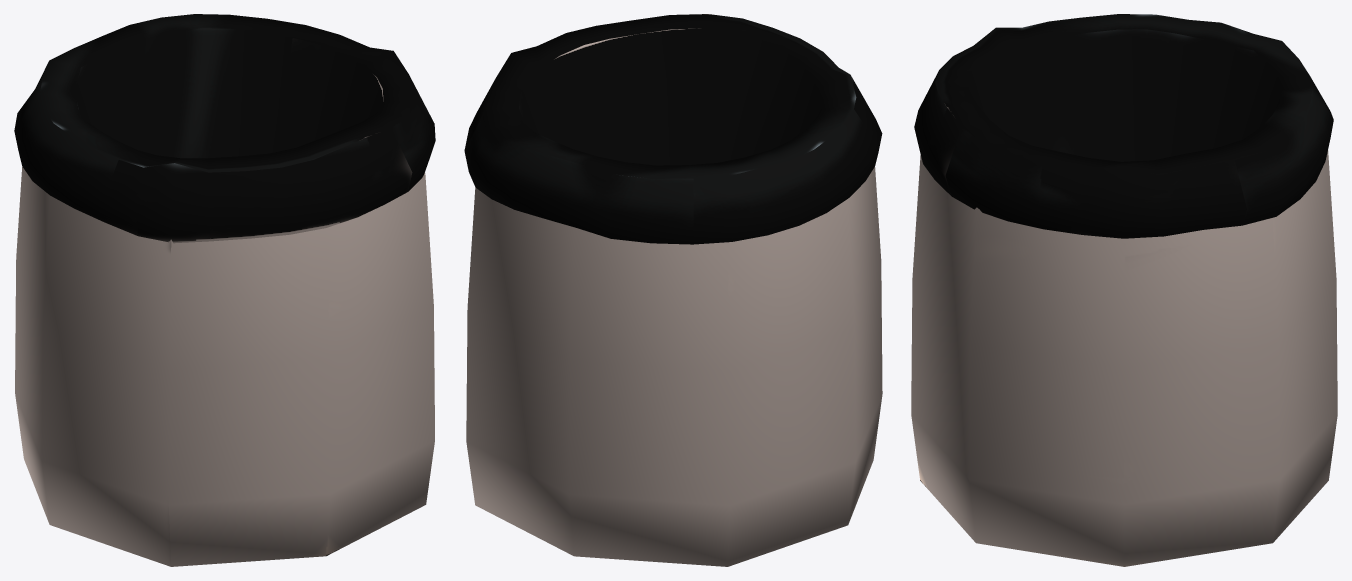
The model's file is TrashCan.fbx.
3 renders of one model, left to right at view 1: azimuth 30°, elevation 25°; view 2: azimuth 150°, elevation 25°; view 3: azimuth 270°, elevation 25°, orthographic.
Parts seen in each view (by area): view 1: TrashCan; view 2: TrashCan; view 3: TrashCan.
Boxes of the visible parts, x1=… form: TrashCan: x1=14, y1=14, x2=435, y2=566; TrashCan: x1=464, y1=14, x2=882, y2=566; TrashCan: x1=911, y1=14, x2=1337, y2=566.
Bounding box in the file's own units: 24.66 × 24.63 × 26.69.
Materials: 1 (1 with a texture image).
